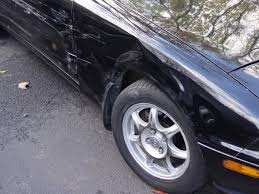Dent: (86, 26, 187, 100)
